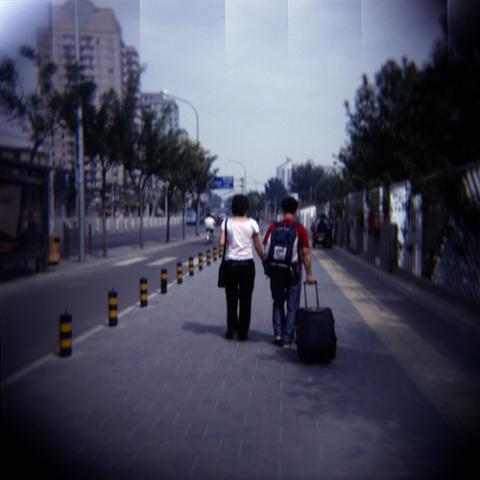car: (210, 213, 224, 226), (186, 211, 197, 225)
